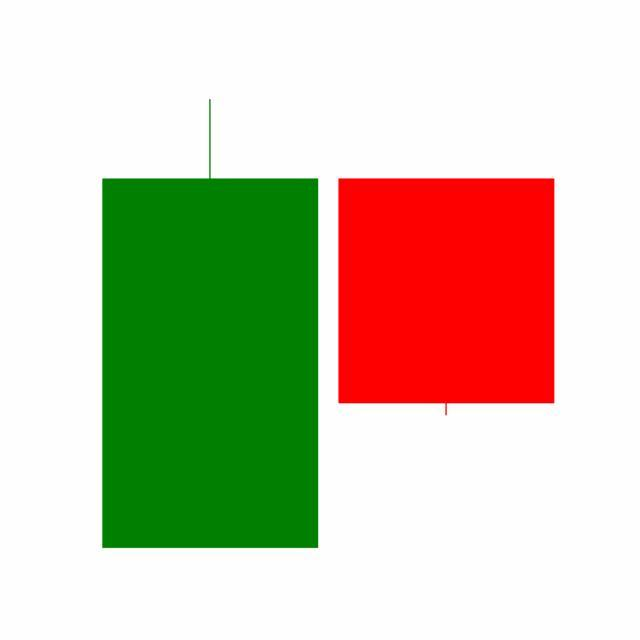Marubozu: (328, 177, 566, 420)
